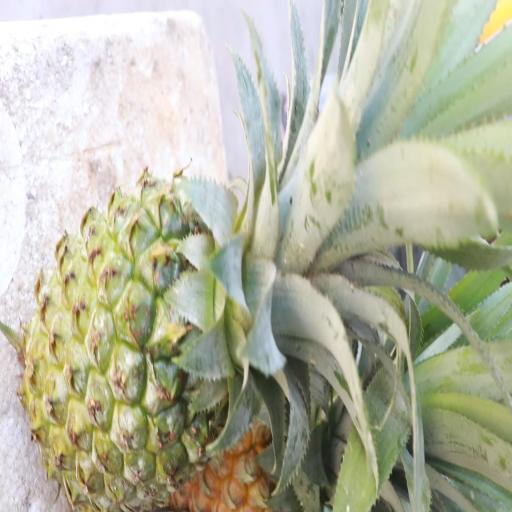------------------------------: (33, 191, 238, 506)
